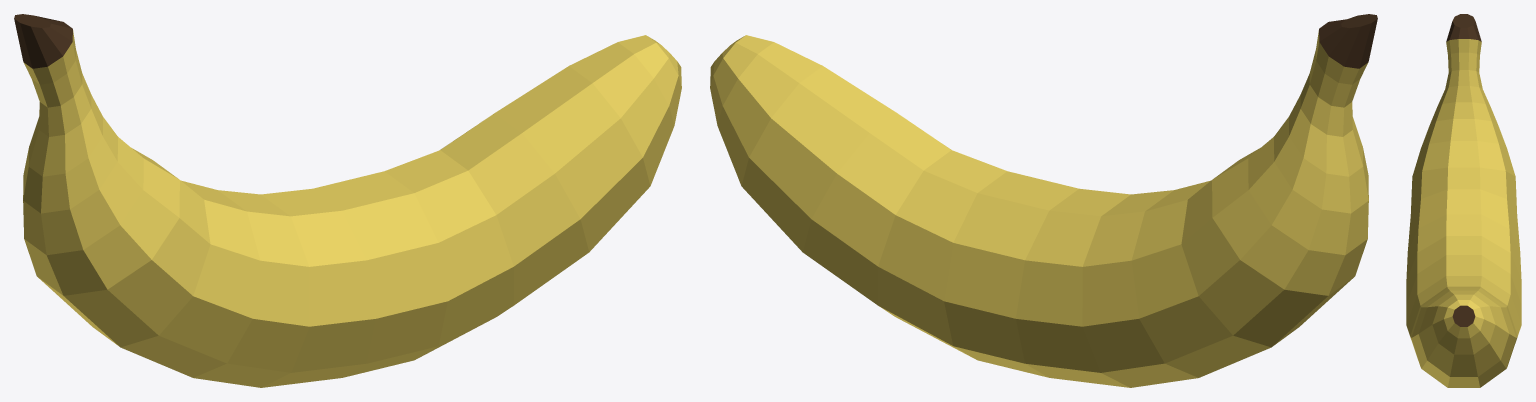
The model's file is bananalowpoly.glb.
The picture shows the model from 3 angles, left to right: view 1: azimuth 30°, elevation 25°; view 2: azimuth 150°, elevation 25°; view 3: azimuth 270°, elevation 25°; orthographic projection. The views are drawn at different scales.
Parts seen in each view (by area): view 1: Cylinder; view 2: Cylinder; view 3: Cylinder.
Boxes of the visible parts, left/top/right/bottom form: Cylinder: left=14, top=14, right=681, bottom=387; Cylinder: left=710, top=14, right=1377, bottom=387; Cylinder: left=1406, top=14, right=1521, bottom=387.
Bounding box in the file's own units: 7.6 × 4.65 × 1.94.
1 material, 1 textured.
